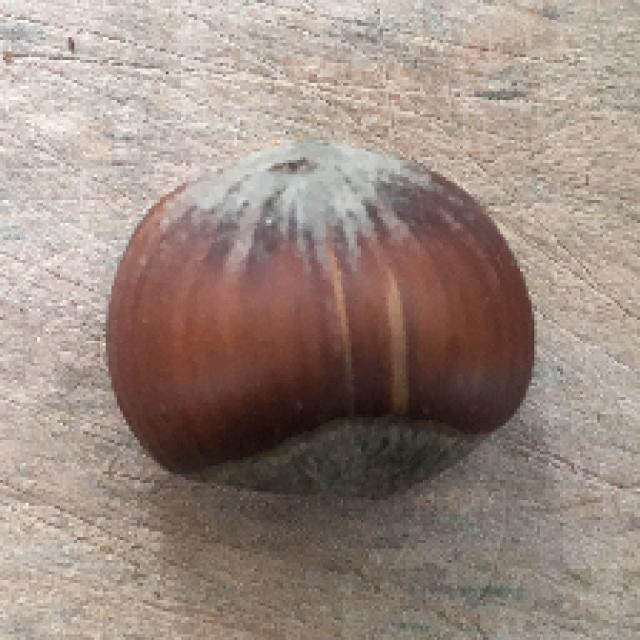damagedHazelnut: (100, 138, 550, 512)
